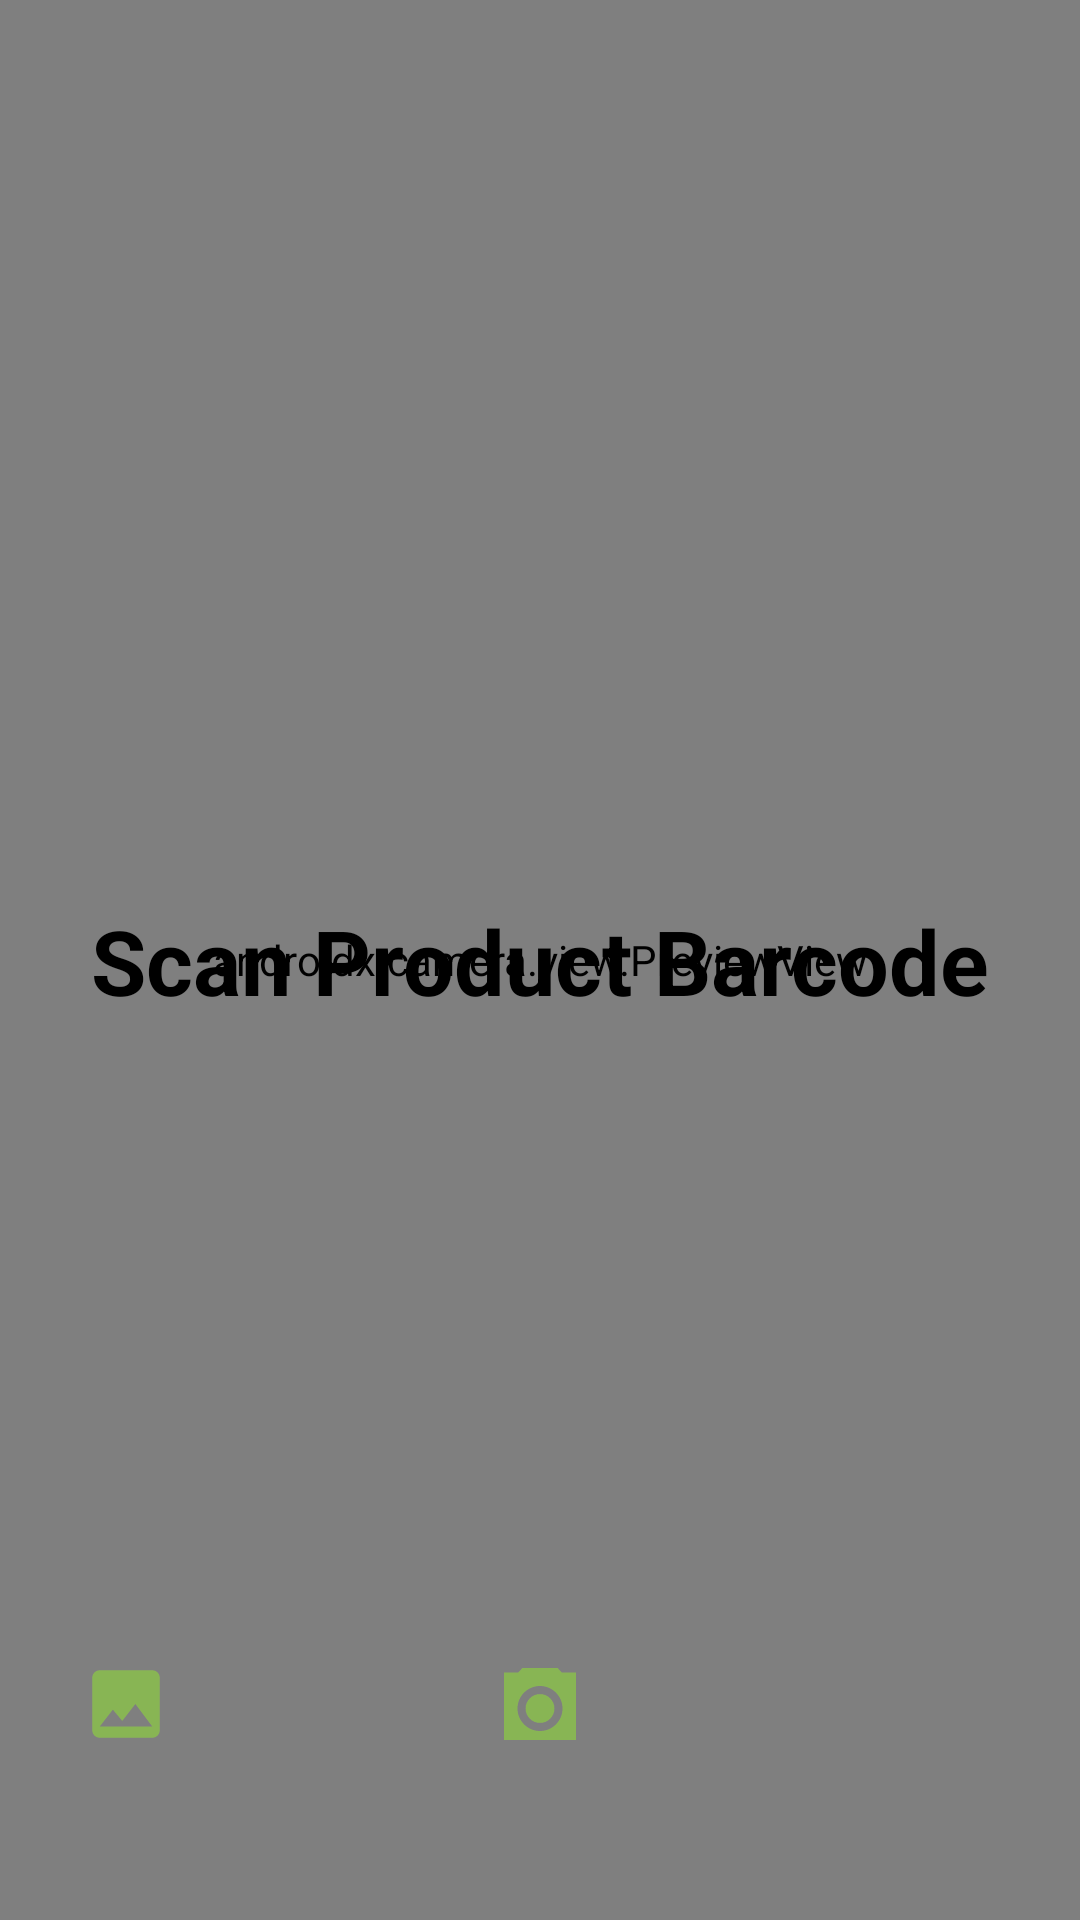

Where to tap for icons on this 1080*1920 app screen, as (x,y):
camerabtn: (540,1704)
gallerybtn: (126,1704)
